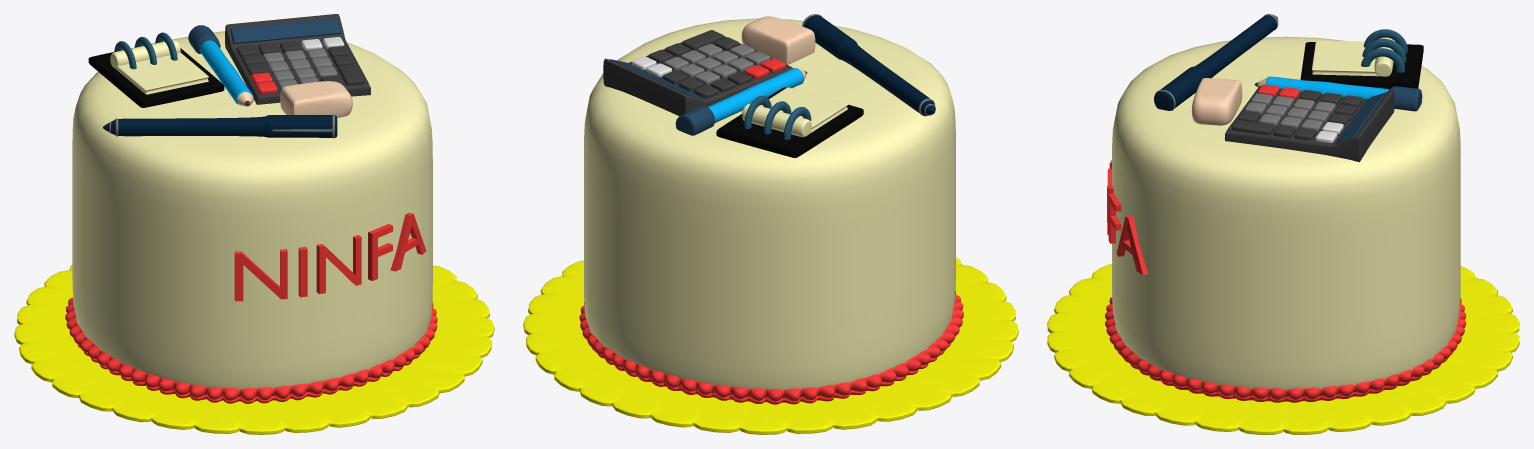
File: TrueCake.glb
3 renders of one model, left to right at view 1: azimuth 30°, elevation 25°; view 2: azimuth 150°, elevation 25°; view 3: azimuth 270°, elevation 25°, orthographic. The views are drawn at different scales.
Parts seen in each view (by area): view 1: BodyCake, Base, CremaRoja.001, Text, Lapicero, Calculator, NoteBlock, Cube, Eraser, Cube.004, CremaRoja, Pencil (+3 smaller); view 2: BodyCake, Base, CremaRoja.001, Calculator, Lapicero, NoteBlock, Eraser, Pencil, Cube, CremaRoja, Torus, Cube.002 (+2 smaller); view 3: BodyCake, Base, CremaRoja.001, Calculator, Lapicero, NoteBlock, Eraser, Cube, Text, Torus, Pencil, CremaRoja (+3 smaller).
Boxes of the visible parts, <box> form: BodyCake: <box>72,31,432,389</box>; Base: <box>14,265,494,434</box>; CremaRoja.001: <box>65,297,437,400</box>; Text: <box>234,212,426,301</box>; Lapicero: <box>103,115,337,137</box>; Calculator: <box>225,14,370,104</box>; NoteBlock: <box>88,43,224,107</box>; Cube: <box>116,52,208,94</box>; Eraser: <box>280,81,352,117</box>; Cube.004: <box>230,18,341,43</box>; CremaRoja: <box>73,337,430,403</box>; Pencil: <box>200,40,253,104</box>; BodyCake: <box>584,18,955,402</box>; Base: <box>523,257,1018,434</box>; CremaRoja.001: <box>579,290,963,401</box>; Calculator: <box>603,36,792,116</box>; Lapicero: <box>803,15,935,115</box>; NoteBlock: <box>716,87,863,157</box>; Eraser: <box>741,16,815,64</box>; Pencil: <box>707,68,803,122</box>; Cube: <box>759,87,848,132</box>; CremaRoja: <box>587,336,955,404</box>; Torus: <box>744,96,811,140</box>; Cube.002: <box>742,103,811,137</box>; BodyCake: <box>1112,36,1460,397</box>; Base: <box>1047,264,1519,434</box>; CremaRoja.001: <box>1105,297,1466,399</box>; Calculator: <box>1224,86,1394,162</box>; Lapicero: <box>1154,15,1277,110</box>; NoteBlock: <box>1300,42,1423,88</box>; Eraser: <box>1191,78,1242,125</box>; Cube: <box>1312,40,1377,76</box>; Text: <box>1107,160,1148,274</box>; Torus: <box>1361,29,1407,72</box>; Pencil: <box>1265,76,1388,99</box>; CremaRoja: <box>1113,344,1457,402</box>.
Bounding box in the file's own units: 2.48 × 1.62 × 2.48.
